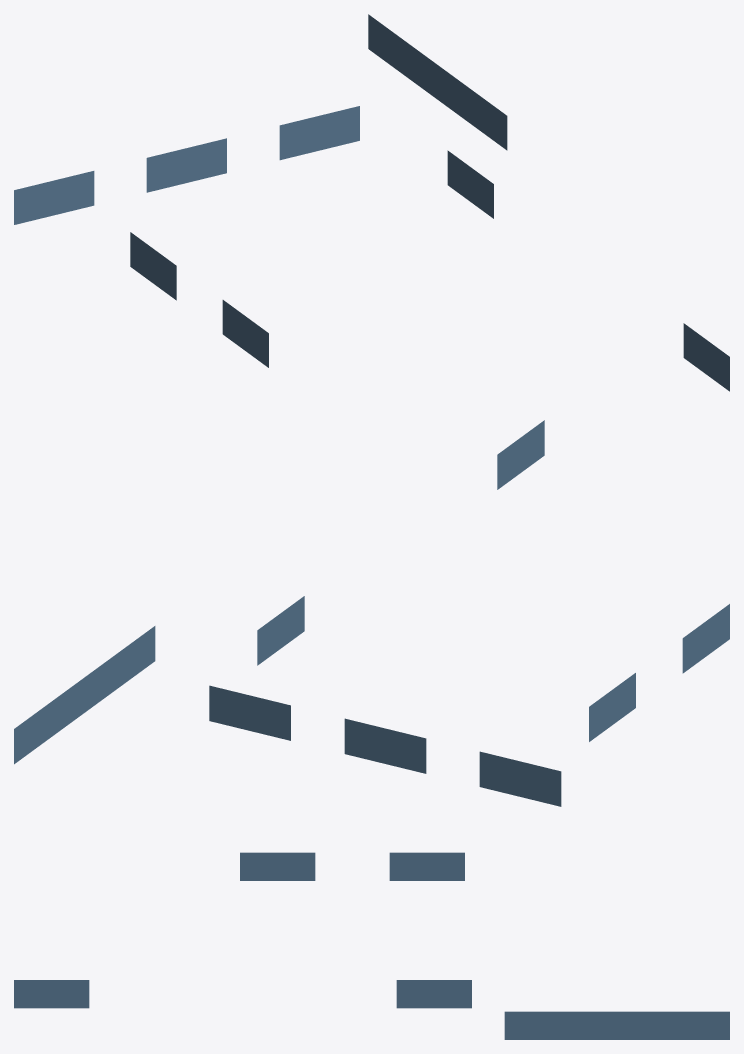
The model's file is Windows 10Floor.fbx.
The picture shows the model from 3 angles, top to bottom: view 1: azimuth 30°, elevation 25°; view 2: azimuth 150°, elevation 25°; view 3: azimuth 270°, elevation 25°; orthographic projection. The views are drawn at different scales.
Visible parts, largest first — view 1: Lab_wall33, Lab_wall35, Lab_wall34, Lab_wall36, Lab_wall23, Lab_wall30, Lab_wall37, Lab_wall38; view 2: Lab_wall33, Lab_wall35, Lab_wall36, Lab_wall34, Lab_wall38, Lab_wall23, Lab_wall30, Lab_wall37; view 3: Lab_wall33, Lab_wall23, Lab_wall30, Lab_wall37, Lab_wall38.
Boxes of the visible parts, box(x1,y1,x2,y2) form: Lab_wall33: box(368, 14, 507, 150); Lab_wall35: box(146, 138, 226, 192); Lab_wall34: box(279, 106, 359, 160); Lab_wall36: box(14, 171, 94, 224); Lab_wall23: box(683, 323, 729, 391); Lab_wall30: box(447, 150, 493, 218); Lab_wall37: box(130, 232, 176, 300); Lab_wall38: box(222, 300, 268, 367); Lab_wall33: box(14, 626, 155, 764); Lab_wall35: box(344, 718, 426, 773); Lab_wall36: box(479, 751, 561, 806); Lab_wall34: box(209, 685, 290, 740); Lab_wall38: box(682, 604, 729, 673); Lab_wall23: box(497, 420, 544, 489); Lab_wall30: box(257, 596, 304, 665); Lab_wall37: box(589, 673, 635, 741); Lab_wall33: box(504, 1011, 729, 1039); Lab_wall23: box(14, 980, 89, 1008); Lab_wall30: box(396, 980, 471, 1008); Lab_wall37: box(389, 852, 464, 880); Lab_wall38: box(240, 852, 315, 880).
Bounding box in the file's own units: 3333 × 250 × 5713.
